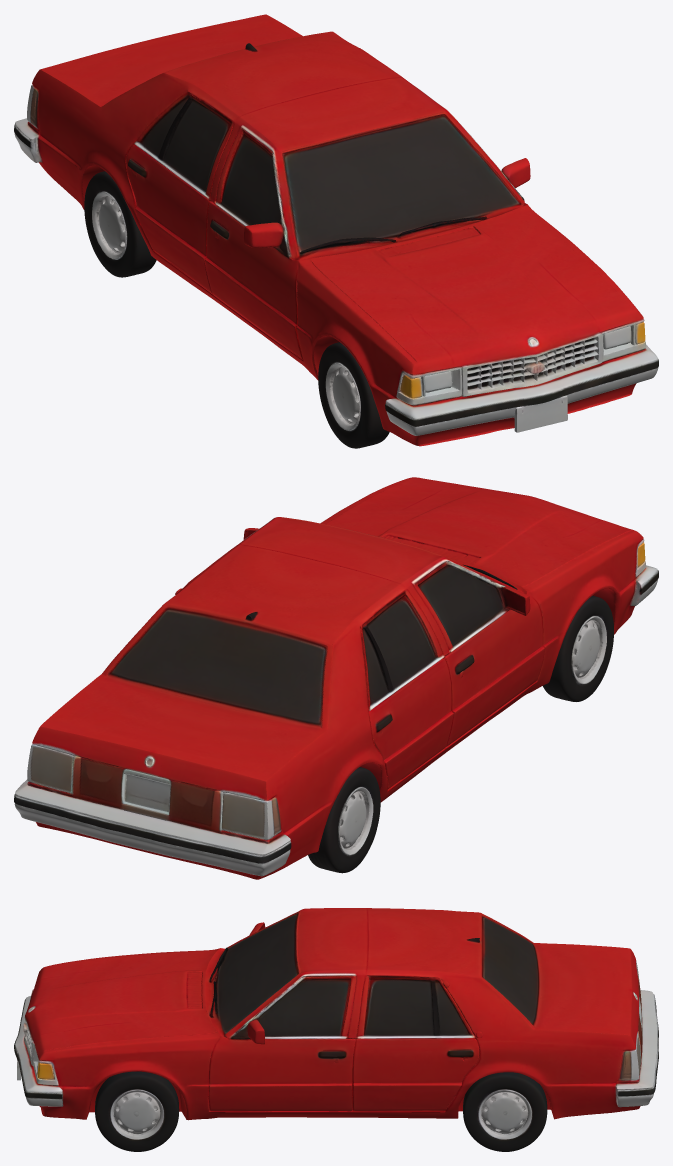
3 views of the same model, one above another, from view 1: azimuth 30°, elevation 25°; view 2: azimuth 150°, elevation 25°; view 3: azimuth 270°, elevation 25° (orthographic). The views are drawn at different scales.
Parts seen in each view (by area): view 1: model; view 2: model; view 3: model.
Part boxes in pixels (x1,y1,x2,y2): model: [14, 14, 658, 448]; model: [14, 477, 658, 879]; model: [14, 908, 658, 1151].
Bounding box in the file's own units: 0.7564 × 0.5512 × 1.9.
1 material, 1 textured.
